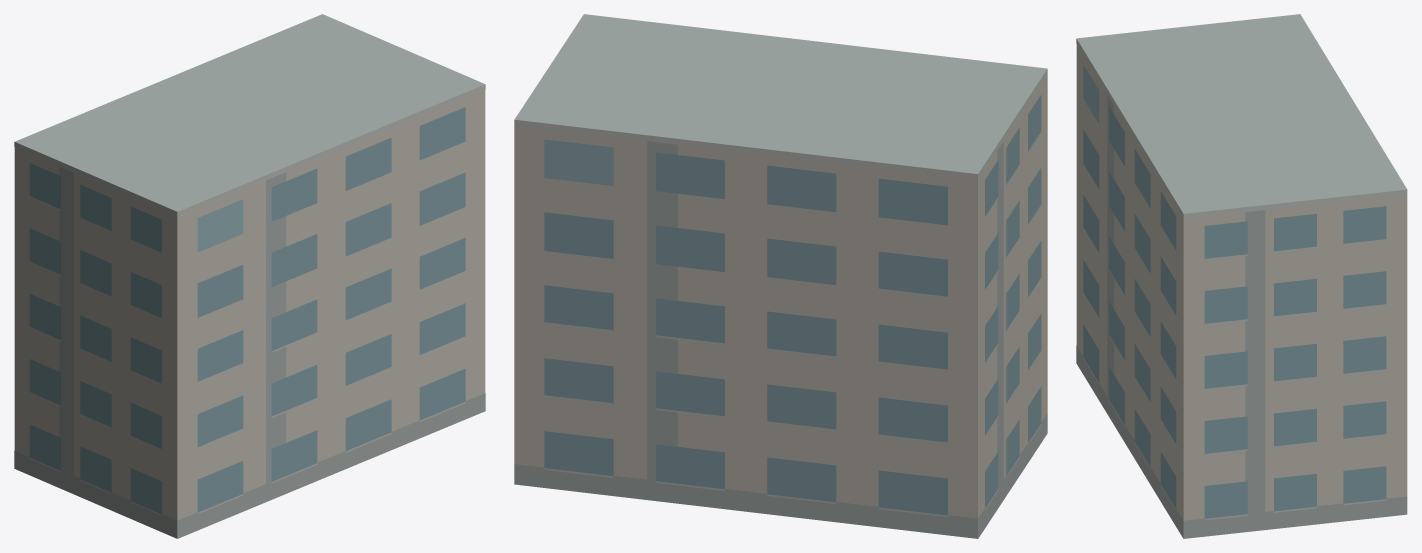
Rendered from residential-9868226a-e445-48b1-b711-7f67b455bb0e.glb.
3 renders of one model, left to right at view 1: azimuth 30°, elevation 25°; view 2: azimuth 150°, elevation 25°; view 3: azimuth 270°, elevation 25°, orthographic. The views are drawn at different scales.
Visible parts, largest first — view 1: residential-9868226a-e445-48b1-b711-7f67b455bb0e.tmp; view 2: residential-9868226a-e445-48b1-b711-7f67b455bb0e.tmp; view 3: residential-9868226a-e445-48b1-b711-7f67b455bb0e.tmp.
Boxes of the visible parts, bbox=[...] form: residential-9868226a-e445-48b1-b711-7f67b455bb0e.tmp: bbox=[14, 14, 485, 538]; residential-9868226a-e445-48b1-b711-7f67b455bb0e.tmp: bbox=[514, 14, 1047, 538]; residential-9868226a-e445-48b1-b711-7f67b455bb0e.tmp: bbox=[1076, 14, 1407, 538].
Bounding box in the file's own units: 20.12 × 15.25 × 14.08.
